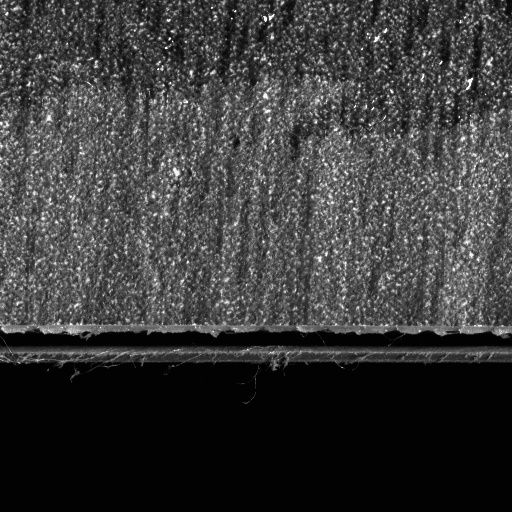kaijiao: (0, 320, 511, 371)
